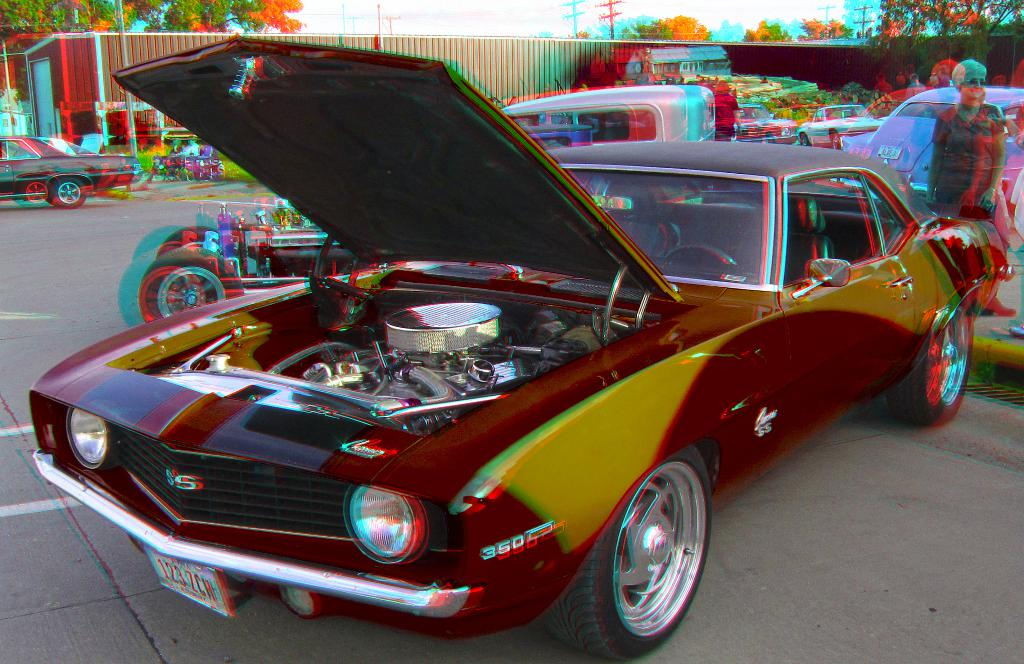Car: (19, 32, 979, 663), (853, 79, 1023, 230), (140, 197, 352, 314), (487, 87, 719, 146), (0, 137, 142, 209), (790, 97, 889, 156), (727, 104, 780, 146)
